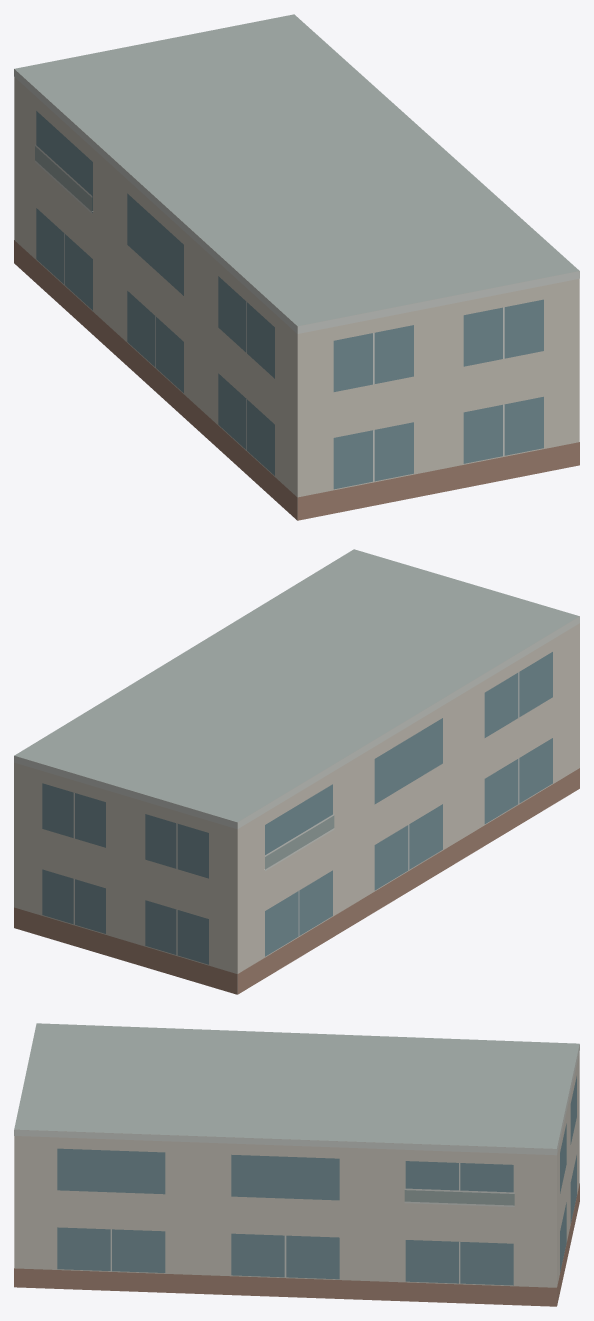
Rendered from survey-upis-32877733.glb.
3 renders of one model, top to bottom at view 1: azimuth 30°, elevation 25°; view 2: azimuth 150°, elevation 25°; view 3: azimuth 270°, elevation 25°, orthographic. The views are drawn at different scales.
Visible parts, largest first — view 1: survey-upis-32877733.tmp; view 2: survey-upis-32877733.tmp; view 3: survey-upis-32877733.tmp.
Boxes of the visible parts, box(x1,y1,x2,y2) form: survey-upis-32877733.tmp: box(14, 14, 579, 520); survey-upis-32877733.tmp: box(14, 549, 579, 994); survey-upis-32877733.tmp: box(14, 1023, 579, 1306).
Bounding box in the file's own units: 10.44 × 6.1 × 19.84.
